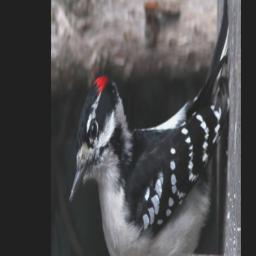Woodpecker: (68, 0, 229, 256)
